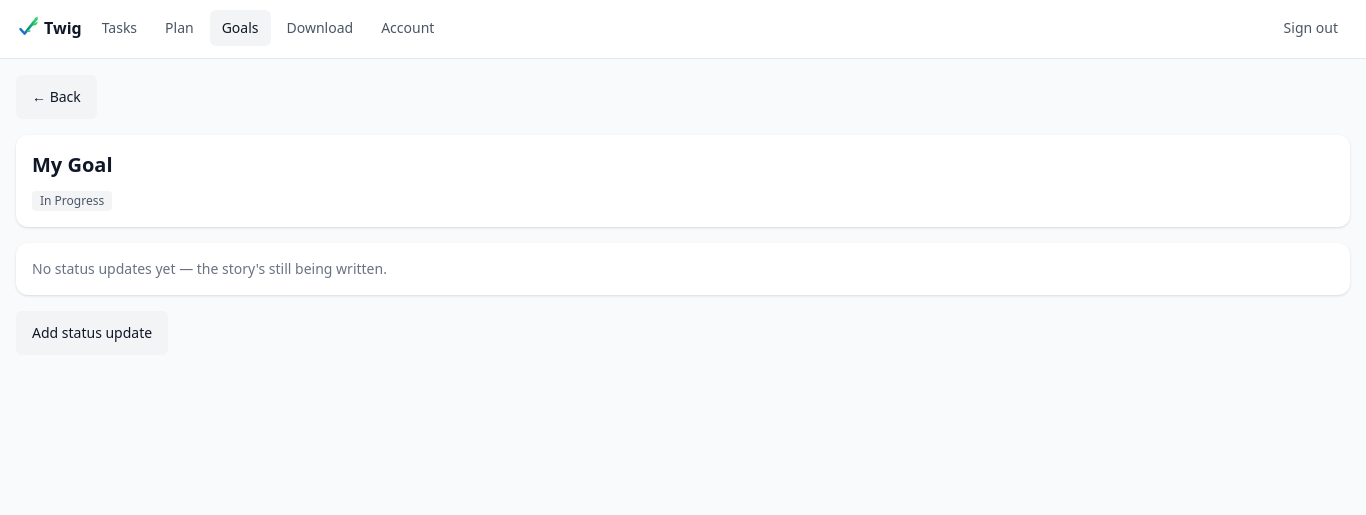
Scenario: GoalDetailPage — status updates › shows error banner when add mutation fails
Click the button "Add status update" at x=92, y=333, box [16,311,168,355]
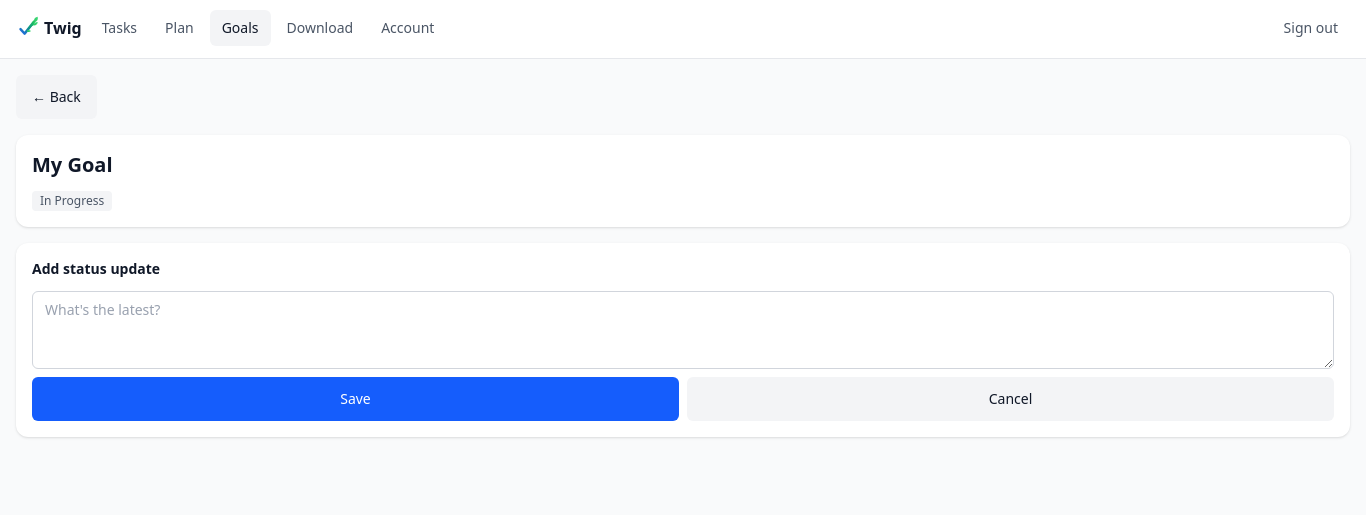
Type "update" into the text box with placeholder "What's the latest?" at x=683, y=330, box [32,291,1334,369]
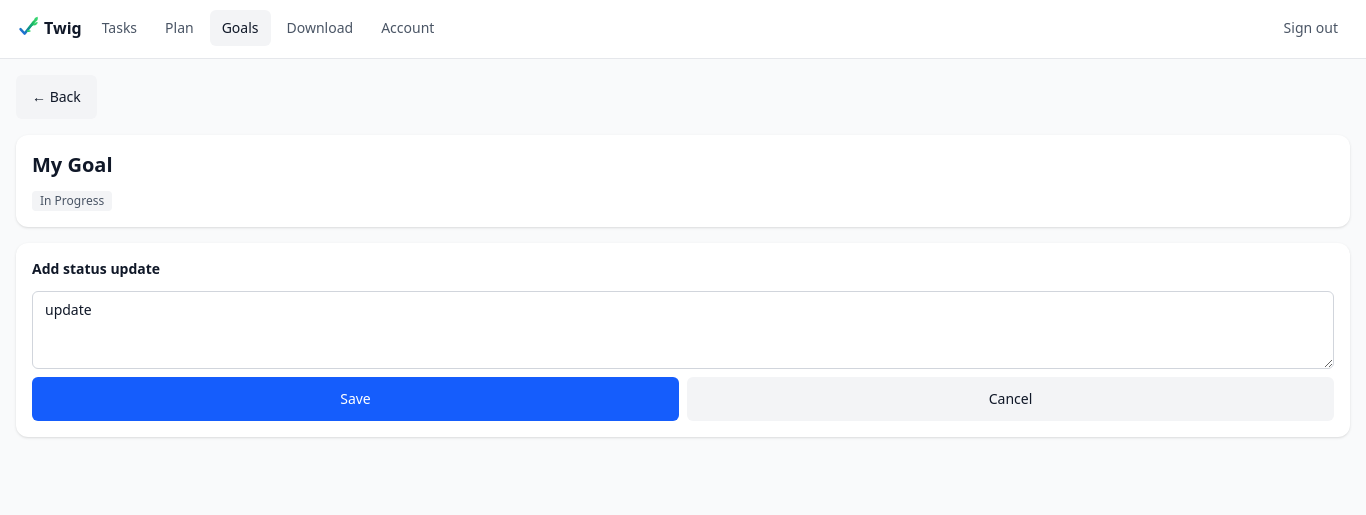
Click the button "Save" at x=356, y=399, box [32,377,679,421]
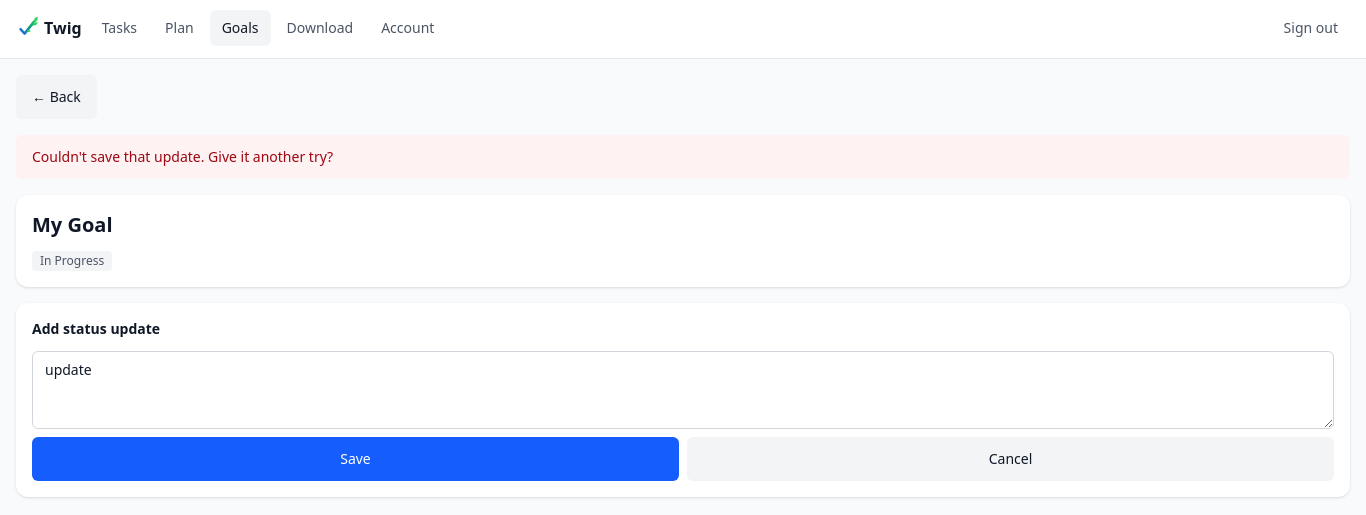
expect the text "Couldn't save that update. Give it another try?" is shown: met, box [32,147,333,167]
